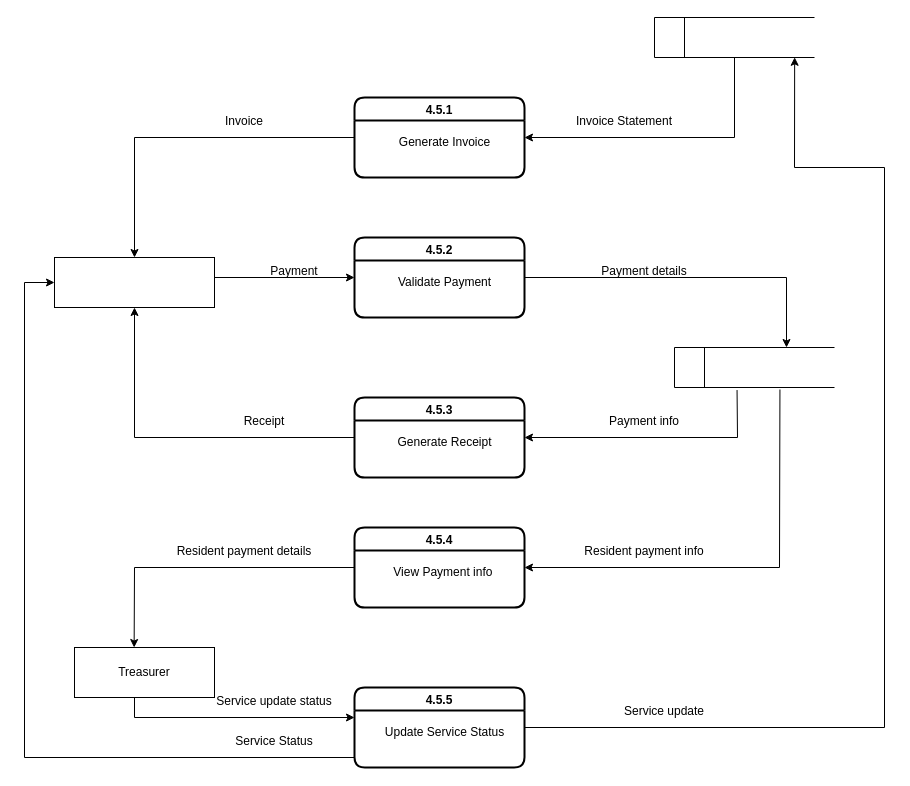
The diagram is 910 pixels wide and 786 high, and some of its shapes have lost their labels. Each missing label, with the centre of its shape:
"D3 Request" belongs at [734,37].
"D5 Payment" belongs at [754,367].
"Resident" belongs at [134,282].
